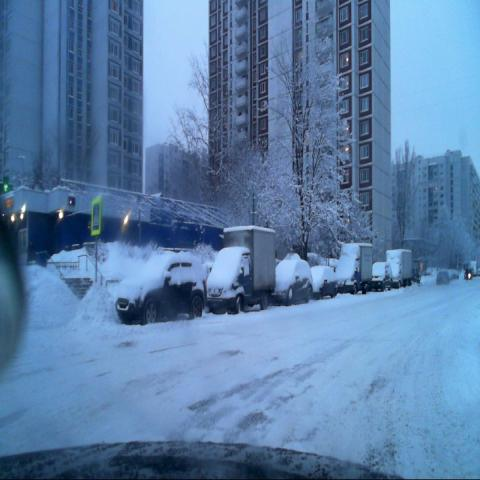5_19_1: (90, 197, 100, 234)
